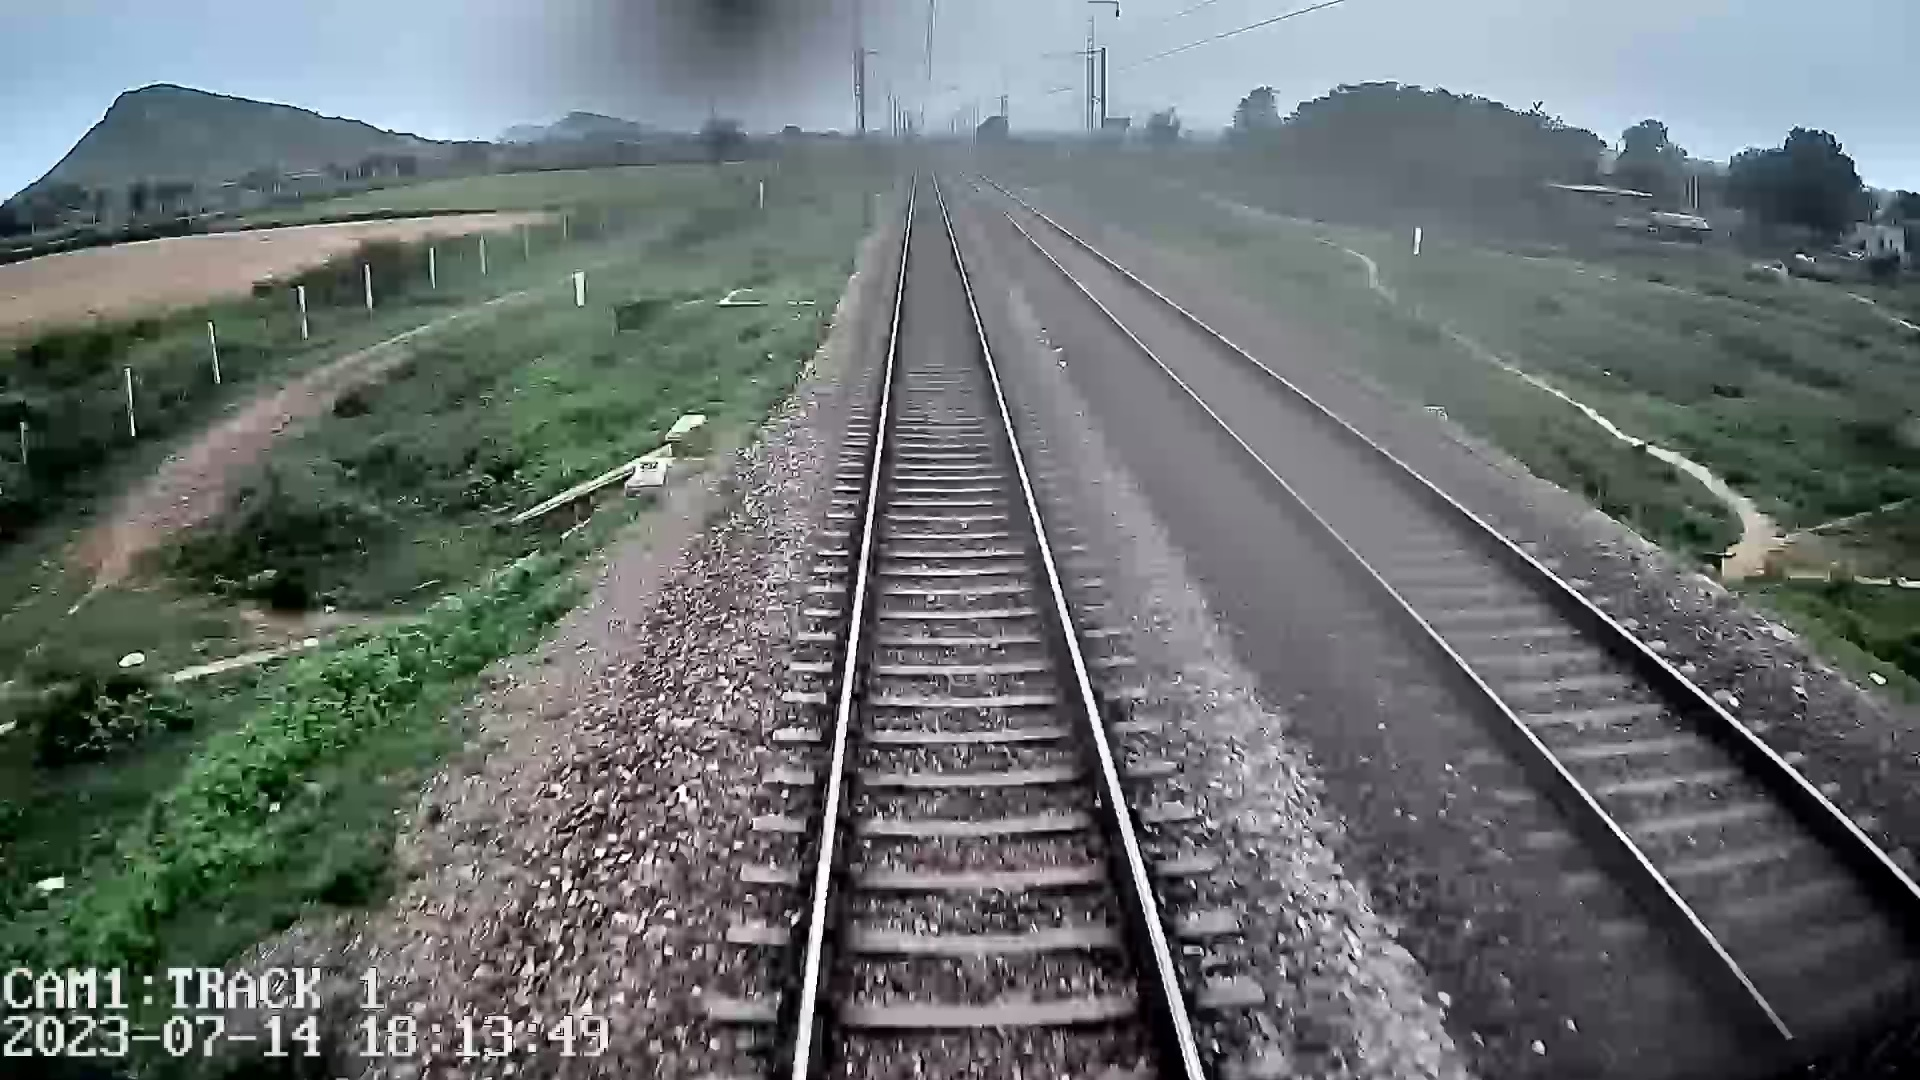track1: (799, 179, 1196, 1071)
track2: (1007, 212, 1919, 1035)
